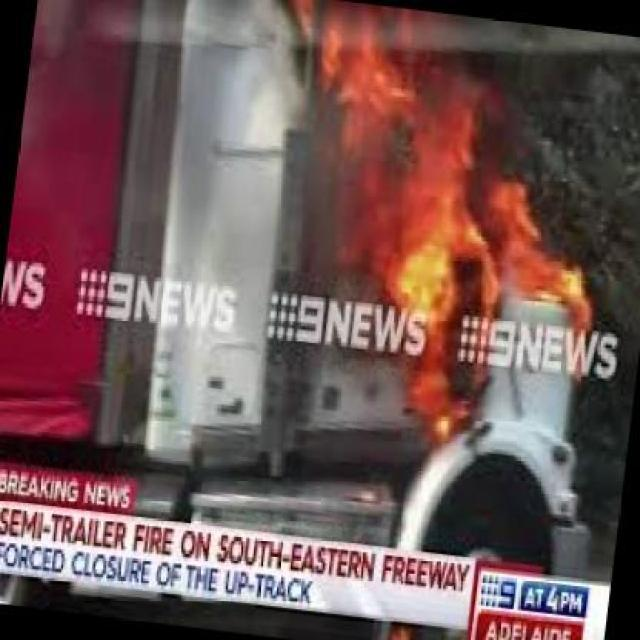Fire: (292, 0, 604, 412)
